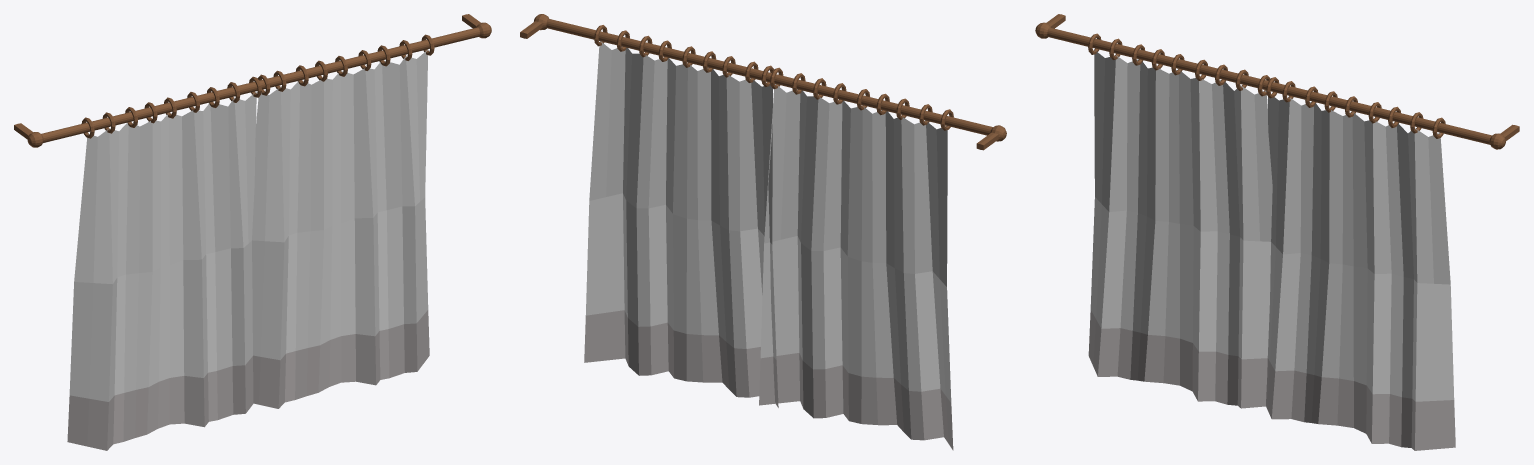
The model's file is Cortina living grande.fbx.
The picture shows the model from 3 angles, left to right: view 1: azimuth 30°, elevation 25°; view 2: azimuth 150°, elevation 25°; view 3: azimuth 330°, elevation 25°; orthographic projection.
Parts seen in each view (by area): view 1: Cortina pieza chico.029; view 2: Cortina pieza chico.029; view 3: Cortina pieza chico.029.
Part boxes in pixels (x1,y1,x2,y2): Cortina pieza chico.029: (14,14,491,450); Cortina pieza chico.029: (520,14,1006,450); Cortina pieza chico.029: (1035,14,1519,450).
Bounding box in the file's own units: 195 × 135 × 19.75.
